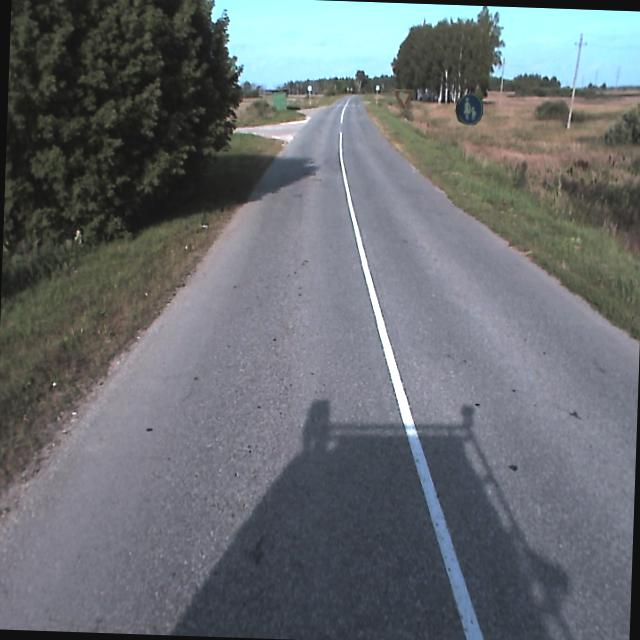road: (0, 96, 639, 640)
